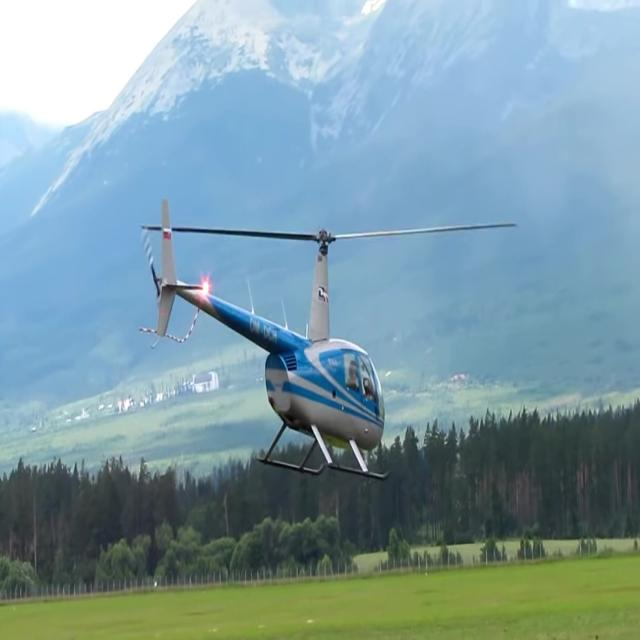CIV_HELO: (155, 197, 394, 483)
